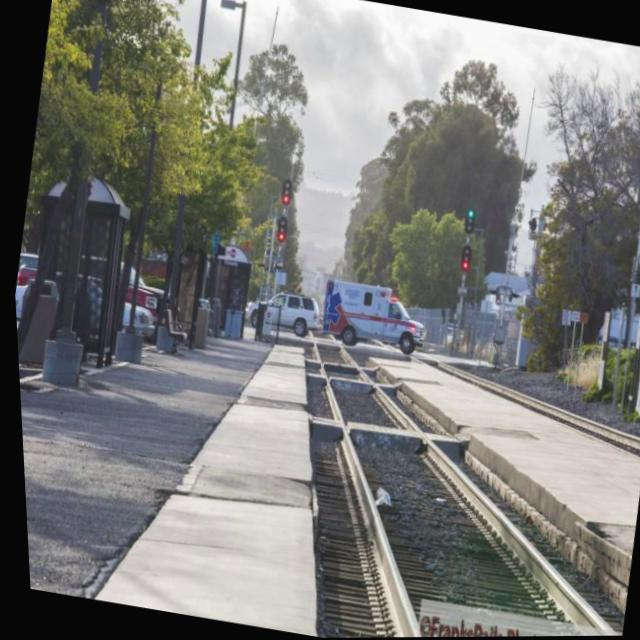emergency: (308, 274, 431, 361)
